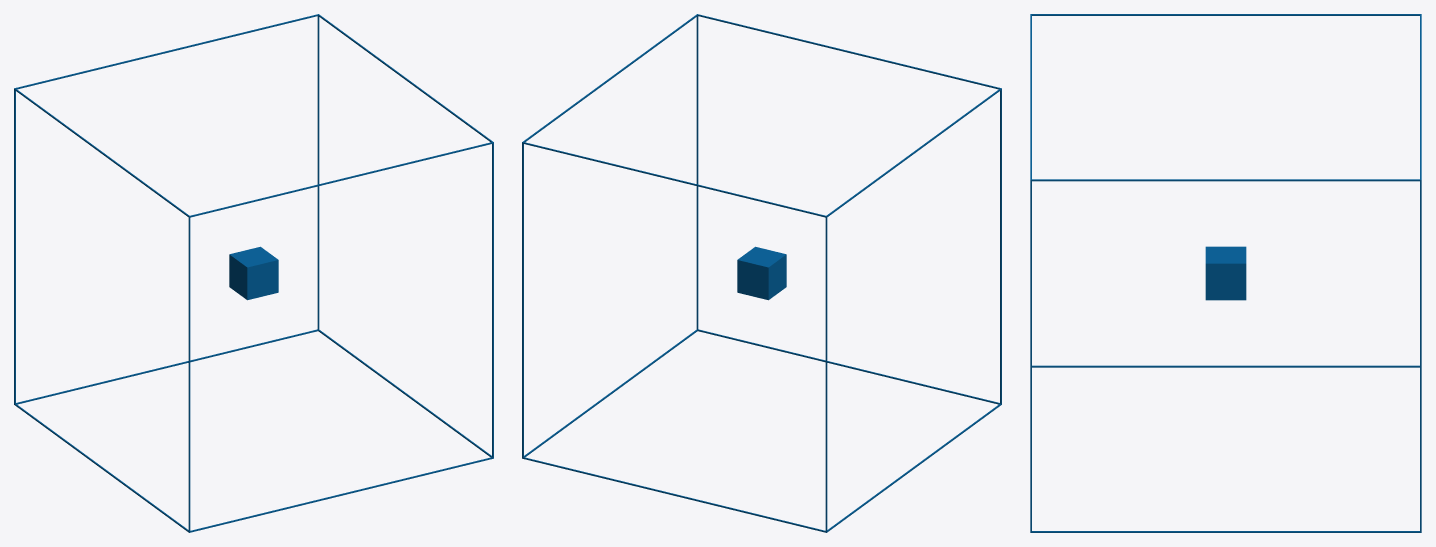
The model's file is BoundingBoxes.fbx.
3 views of the same model, side by side, from view 1: azimuth 30°, elevation 25°; view 2: azimuth 150°, elevation 25°; view 3: azimuth 270°, elevation 25° (orthographic). The views are drawn at different scales.
Visible parts, largest first — view 1: bbEdges, bbCube; view 2: bbEdges, bbCube; view 3: bbEdges, bbCube.
Part boxes in pixels (<box>): bbEdges: <box>14,14,493,532</box>; bbCube: <box>229,246,278,300</box>; bbEdges: <box>522,14,1001,532</box>; bbCube: <box>737,246,786,300</box>; bbEdges: <box>1030,14,1421,532</box>; bbCube: <box>1205,246,1246,300</box>.
Bounding box in the file's own units: 95.32 × 94.56 × 94.94.
